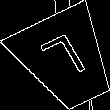L_SE: (38, 31, 95, 90)
